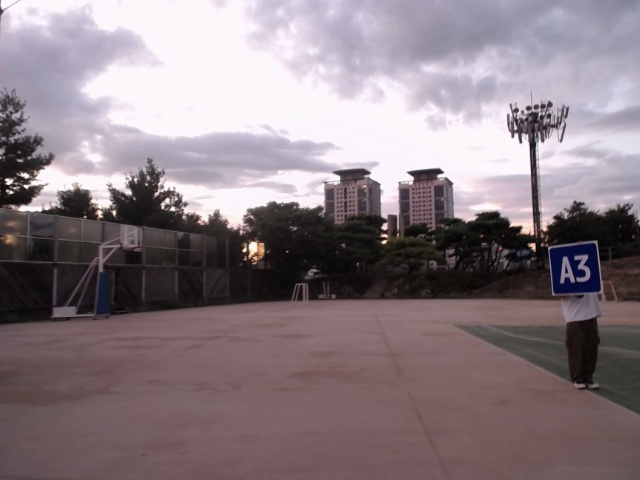delivery_a3: (549, 243, 602, 296)
